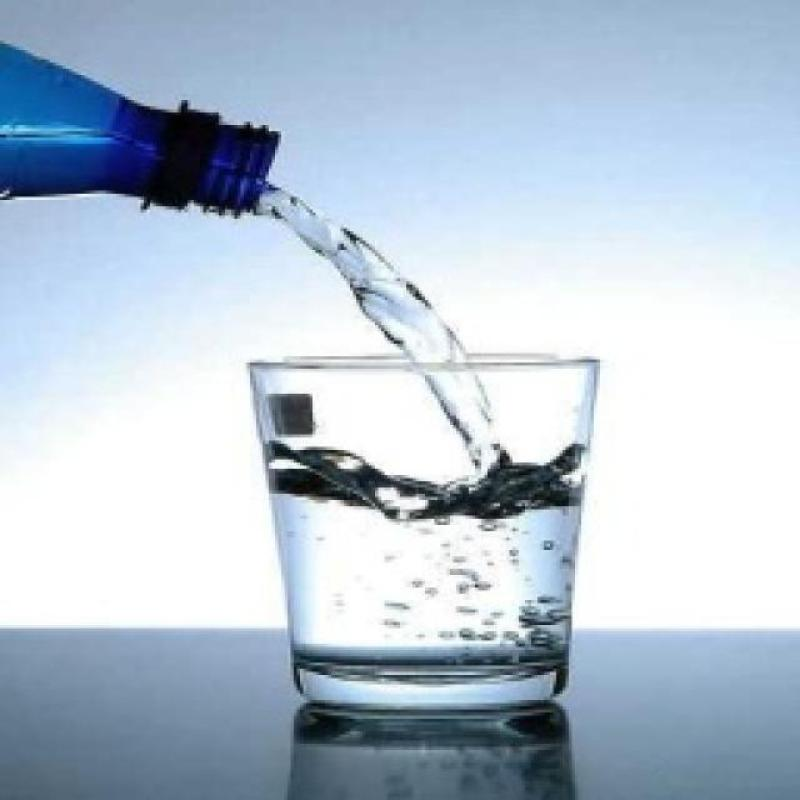botella: (0, 41, 278, 220)
